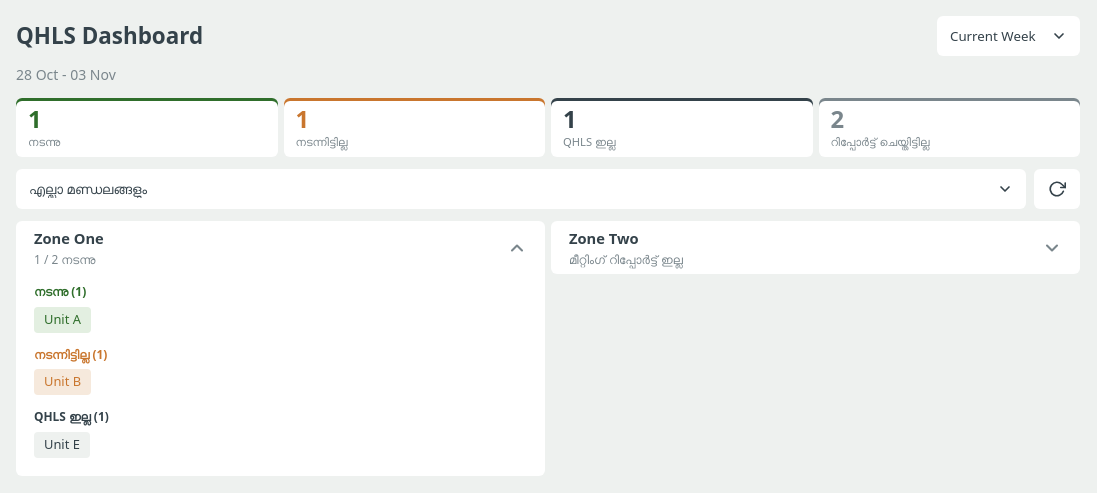
Scenario: QHLSDashboard › zone filter narrows the list
Select "Zone Two" in the dropdown named "മണ്ഡലം". click: (521, 189)
box: x1=16 y1=169 x2=1026 y2=209
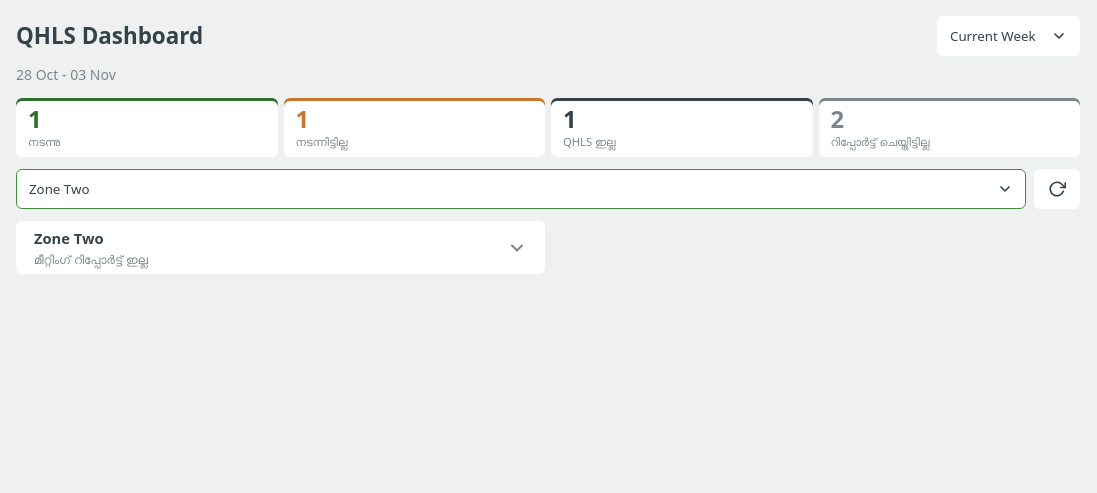
Now the heading "Zone One" is gone
